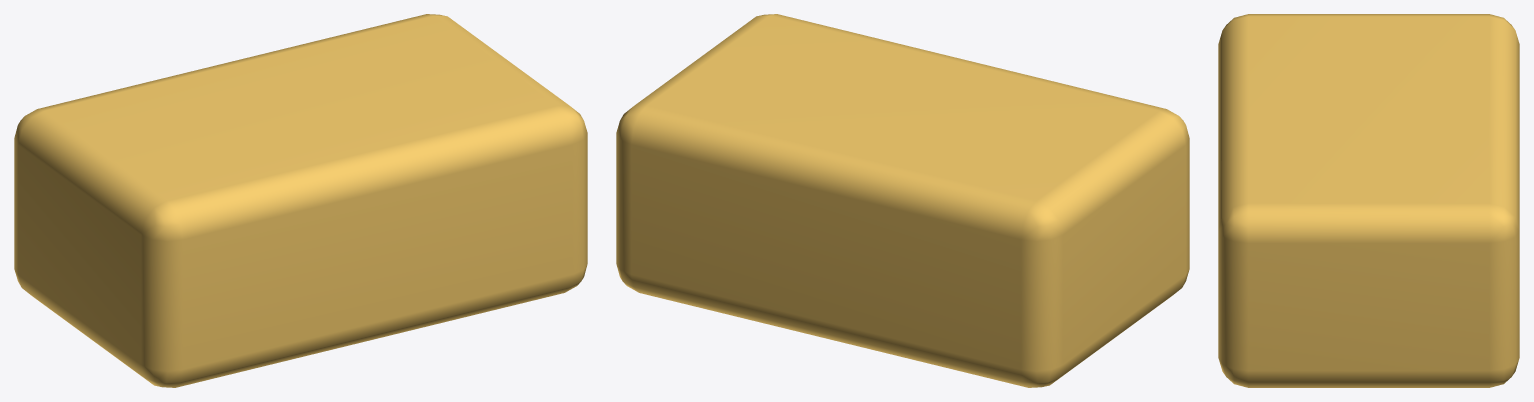
The model's file is ava-opposite-clean.glb.
The picture shows the model from 3 angles, left to right: view 1: azimuth 30°, elevation 25°; view 2: azimuth 150°, elevation 25°; view 3: azimuth 270°, elevation 25°; orthographic projection.
Visible parts, largest first — view 1: sponge; view 2: sponge; view 3: sponge.
Part boxes in pixels (x1,y1,x2,y2): sponge: (14,14,587,387); sponge: (616,14,1189,387); sponge: (1218,14,1519,387).
Bounding box in the file's own units: 1 × 0.4 × 0.6.
